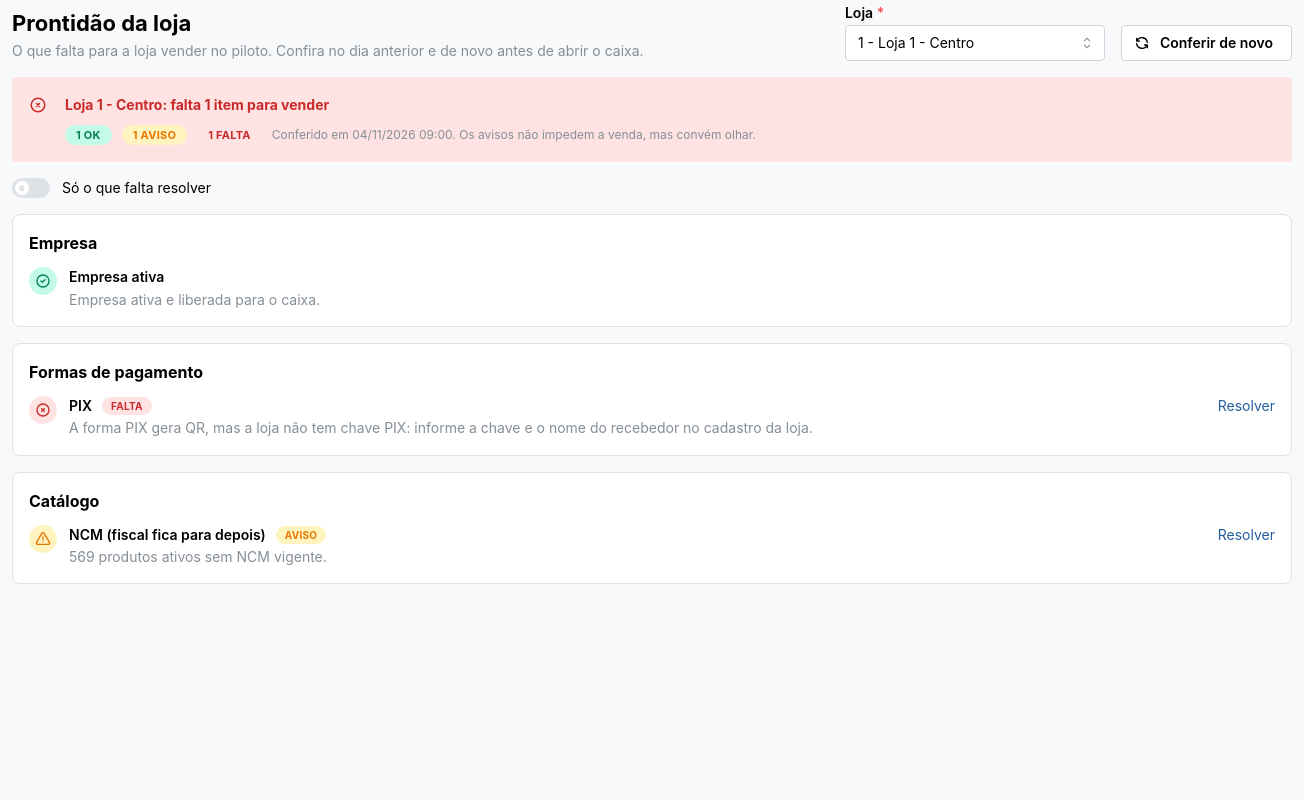
<Prontidao> (implantação I5) › resumo, grupos, situação e link de cada item; troca de loja e só pendências
expect the message with test id "prontidao-resumo" shows "Loja 1 - Centro: falta 1 item para vender": met, box [65, 96, 329, 113]
expect the message with test id "prontidao-resumo" shows "1 ok": met, box [12, 77, 1292, 162]
Só o que falta resolver: o ok some, o aviso e a falta ficam.
Step 1. Click the switch labelled "Só o que falta resolver" → (111, 188), box [12, 178, 211, 198]
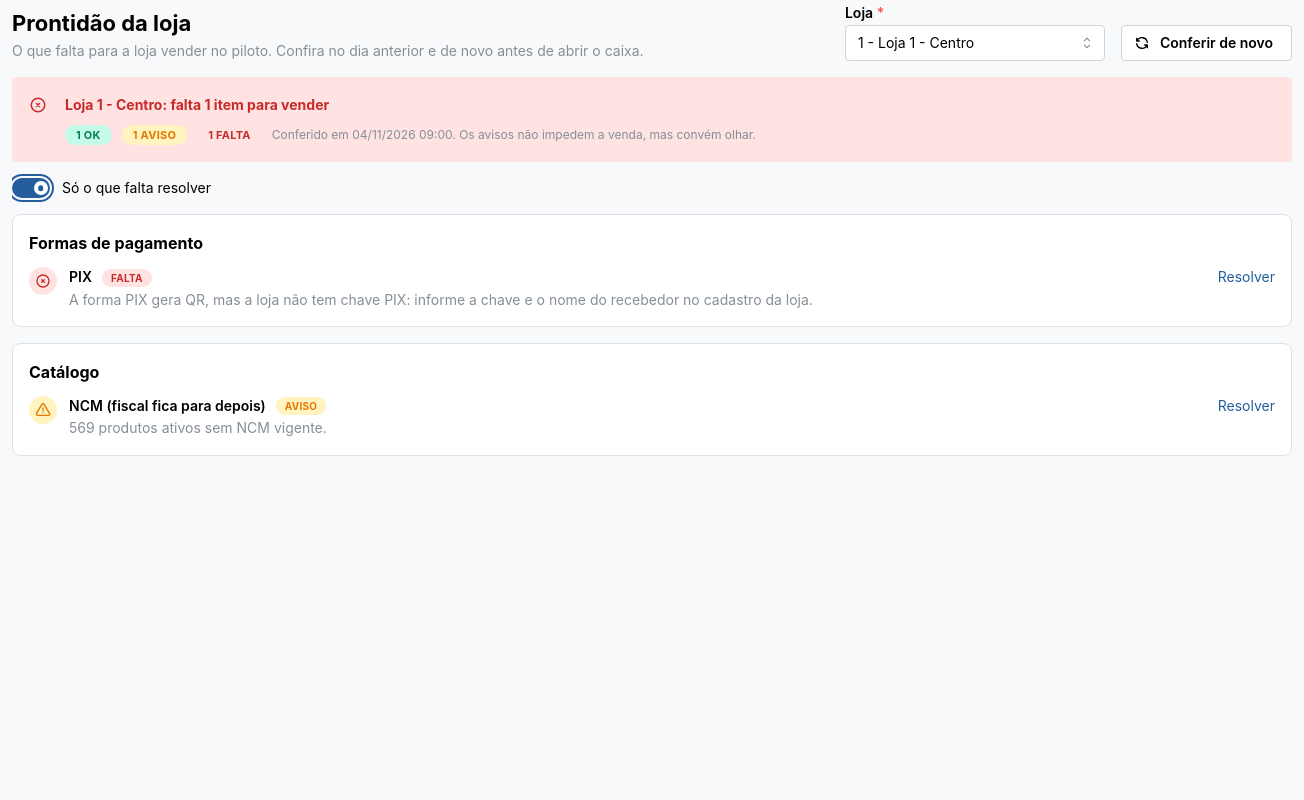
expect the element with test id "prontidao-formas.pix" is shown: met, box [29, 268, 1275, 310]
expect the heading "Empresa" is gone: met
Outra loja: a pronta.
Step 2. Click the dropdown labelled "Loja" → (975, 43), box [845, 25, 1105, 61]
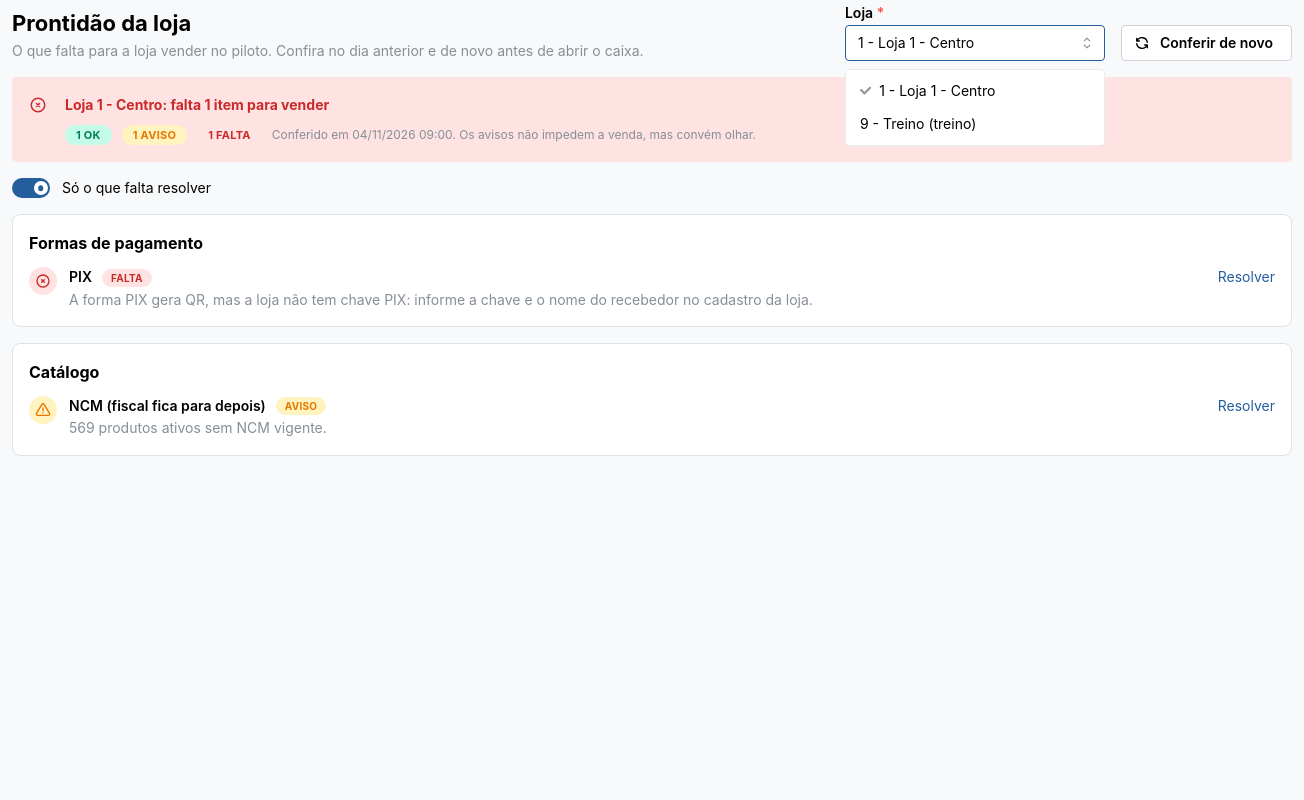
Step 3. Click the option "9 - Treino (treino)" → (918, 124), box [860, 116, 976, 132]
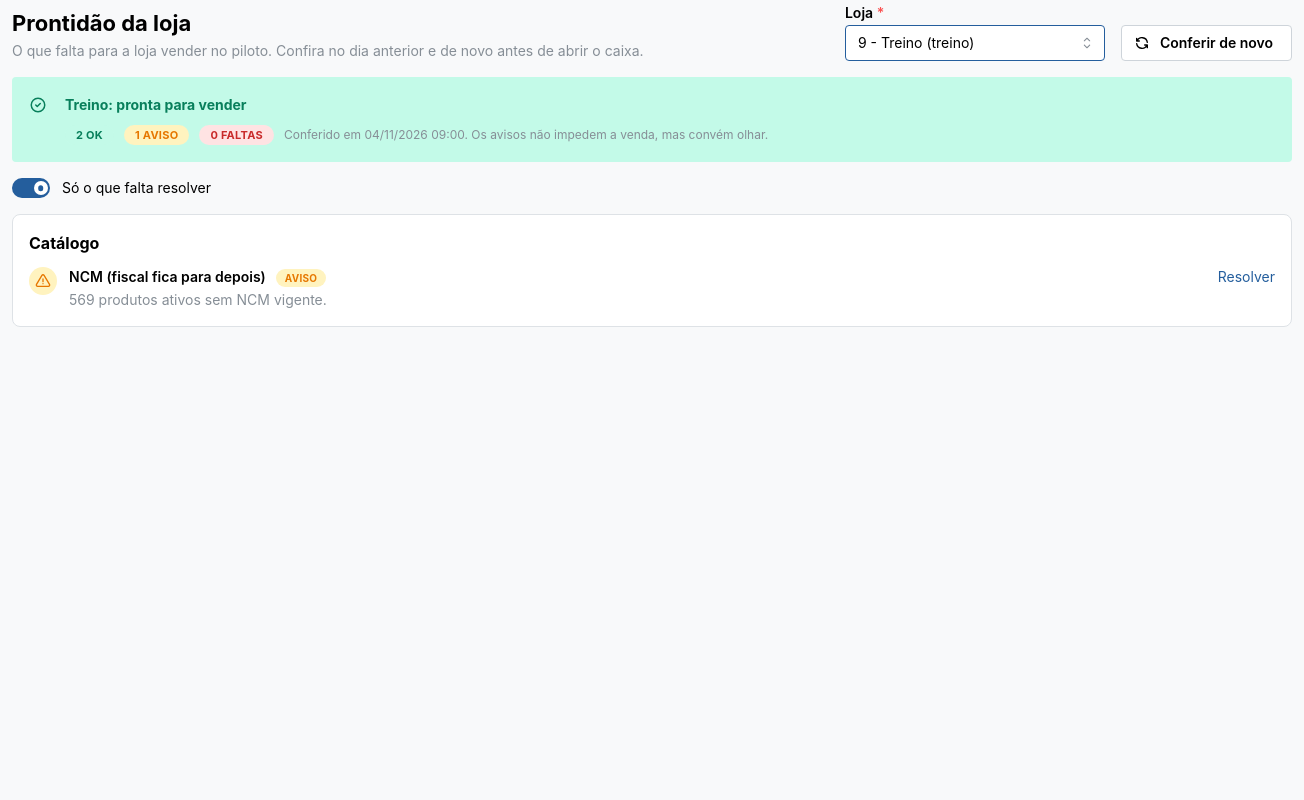
expect the message with test id "prontidao-resumo" shows "Treino: pronta para vender": met, box [65, 96, 247, 113]
